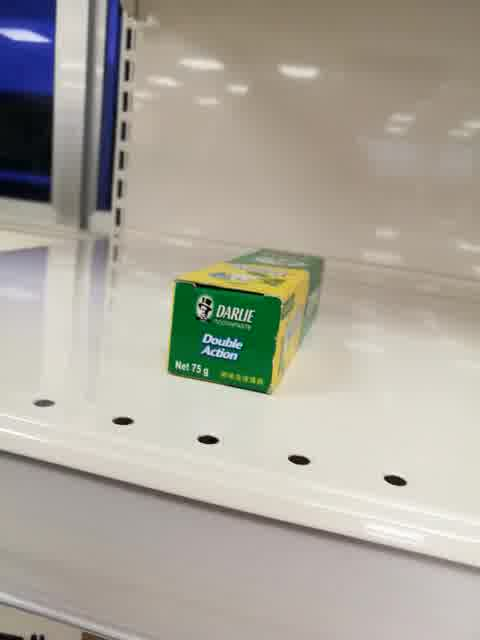toothpaste: (165, 248, 323, 395)
